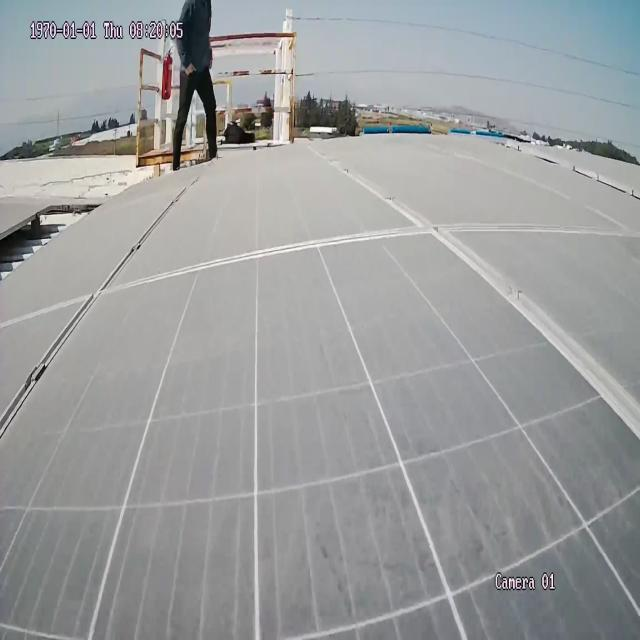interior panel: (316, 149, 640, 462), (0, 164, 213, 448)
outher panel: (1, 194, 105, 299)
